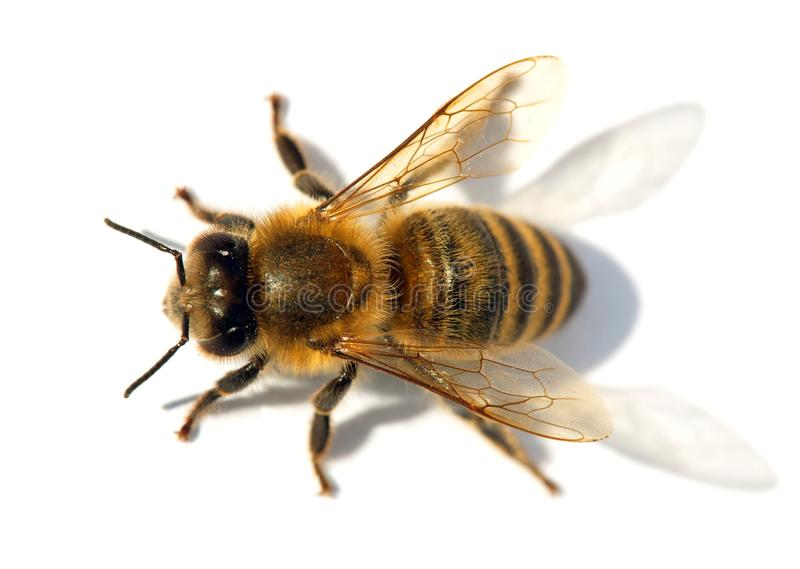bee: (90, 34, 642, 529)
